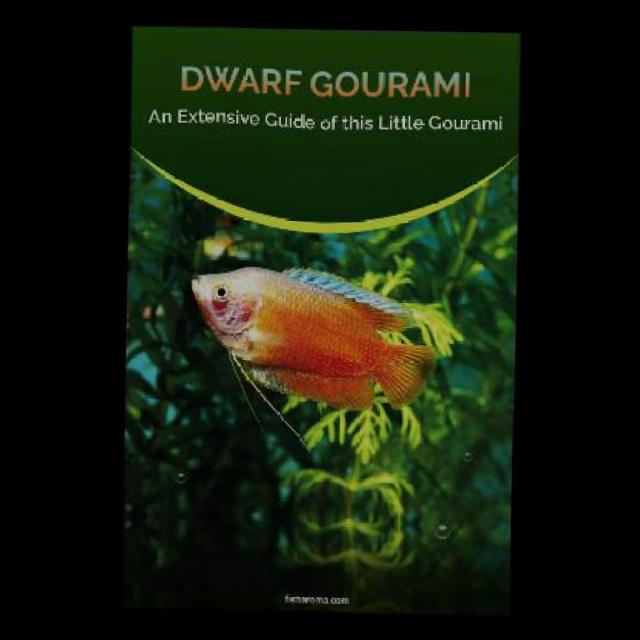Gourami: (187, 260, 430, 442)
